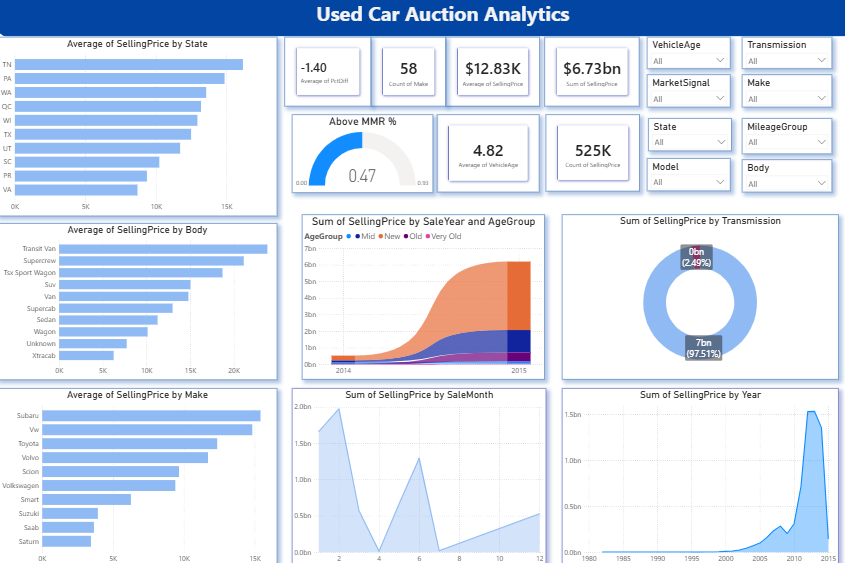

What the dashboard file says about the page in this screenshot:
{"tool":"powerbi","page":{"name":"Page 1","canvas":[2263,1520],"ordinal":0},"visuals":[{"type":"shape","box":[0,0,2345,105],"z":0},{"type":"textbox","box":[20,0,2347.5,87.5],"z":1000},{"type":"cardVisual","fields":{"Data":["Avg(cleaned_auction_data.SellingPrice)"]},"box":[1195,107.5,250,185],"z":2000},{"type":"cardVisual","fields":{"Data":["CountNonNull(cleaned_auction_data.SellingPrice)"]},"box":[1462.5,312.5,250,205],"z":3000},{"type":"areaChart","fields":{"Category":["cleaned_auction_data.SaleMonth"],"Y":["Sum(cleaned_auction_data.SellingPrice)"]},"box":[785,1042.5,677.5,477.5],"z":4000},{"type":"clusteredBarChart","fields":{"Category":["cleaned_auction_data.Body"],"Y":["Avg(cleaned_auction_data.SellingPrice)"]},"box":[0,602.5,747.5,417.5],"z":5000},{"type":"clusteredBarChart","fields":{"Category":["cleaned_auction_data.State"],"Y":["Avg(cleaned_auction_data.SellingPrice)"]},"box":[0,107.5,747.5,477.5],"z":6000},{"type":"cardVisual","fields":{"Data":["Avg(cleaned_auction_data.VehicleAge)"]},"box":[1172.5,312.5,272.5,207.5],"z":7000},{"type":"clusteredBarChart","fields":{"Y":["Avg(cleaned_auction_data.SellingPrice)"],"Category":["cleaned_auction_data.Make"]},"box":[0,1042.5,747.5,477.5],"z":8000},{"type":"slicer","fields":{"Values":["cleaned_auction_data.Make"]},"box":[1985,205,240,87.5],"z":9000},{"type":"slicer","fields":{"Values":["cleaned_auction_data.Model"]},"box":[1732.5,430,222.5,87.5],"z":10000},{"type":"slicer","fields":{"Values":["cleaned_auction_data.Body"]},"box":[1985,432.5,240,87.5],"z":11000},{"type":"slicer","fields":{"Values":["cleaned_auction_data.Transmission"]},"box":[1985,105,240,85],"z":12000},{"type":"slicer","fields":{"Values":["cleaned_auction_data.State"]},"box":[1735,322.5,222.5,87.5],"z":13000},{"type":"slicer","fields":{"Values":["cleaned_auction_data.VehicleAge"]},"box":[1732.5,105,222.5,85],"z":14000},{"type":"slicer","fields":{"Values":["cleaned_auction_data.MarketSignal"]},"box":[1732.5,205,222.5,87.5],"z":15000},{"type":"slicer","fields":{"Values":["cleaned_auction_data.MileageGroup"]},"box":[1985,322.5,240,95],"z":16000},{"type":"donutChart","fields":{"Category":["cleaned_auction_data.Transmission"],"Y":["Sum(cleaned_auction_data.SellingPrice)"]},"box":[1505,580,737.5,440],"z":17000},{"type":"areaChart","fields":{"Category":["cleaned_auction_data.Year"],"Y":["Sum(cleaned_auction_data.SellingPrice)"]},"box":[1505,1042.5,737.5,477.5],"z":18000},{"type":"cardVisual","fields":{"Data":["Sum(cleaned_auction_data.SellingPrice)"]},"box":[1460,107.5,252.5,185],"z":19000},{"type":"cardVisual","fields":{"Data":["Count(cleaned_auction_data.Make)"]},"box":[995,107.5,200,185],"z":20000},{"type":"ribbonChart","fields":{"Category":["cleaned_auction_data.SaleYear"],"Y":["Sum(cleaned_auction_data.SellingPrice)"],"Series":["cleaned_auction_data.AgeGroup"]},"box":[812.9,580,647.1,440],"z":21000},{"type":"gauge","fields":{"Y":["cleaned_auction_data.Above MMR %"]},"box":[785.7,312.9,375.7,208.6],"z":22000},{"type":"cardVisual","fields":{"Data":["Avg(cleaned_auction_data.PctDiff)"]},"box":[765,107.5,230,185],"z":23000}]}

Visuals, with their boxes in screenshot pixels (x1, y1, x2, y2), scaled from the page's 2263x1520 canvas onto the 845x563 screenshot:
shape: {"left": 0, "top": 0, "right": 844, "bottom": 39}
textbox: {"left": 7, "top": 0, "right": 844, "bottom": 32}
cardVisual - Avg(cleaned_auction_data.SellingPrice): {"left": 446, "top": 40, "right": 540, "bottom": 108}
cardVisual - CountNonNull(cleaned_auction_data.SellingPrice): {"left": 546, "top": 116, "right": 639, "bottom": 192}
areaChart - cleaned_auction_data.SaleMonth x Sum(cleaned_auction_data.SellingPrice): {"left": 293, "top": 386, "right": 546, "bottom": 562}
clusteredBarChart - cleaned_auction_data.Body x Avg(cleaned_auction_data.SellingPrice): {"left": 0, "top": 223, "right": 279, "bottom": 378}
clusteredBarChart - cleaned_auction_data.State x Avg(cleaned_auction_data.SellingPrice): {"left": 0, "top": 40, "right": 279, "bottom": 217}
cardVisual - Avg(cleaned_auction_data.VehicleAge): {"left": 438, "top": 116, "right": 540, "bottom": 193}
clusteredBarChart - Avg(cleaned_auction_data.SellingPrice) x cleaned_auction_data.Make: {"left": 0, "top": 386, "right": 279, "bottom": 562}
slicer - cleaned_auction_data.Make: {"left": 741, "top": 76, "right": 831, "bottom": 108}
slicer - cleaned_auction_data.Model: {"left": 647, "top": 159, "right": 730, "bottom": 192}
slicer - cleaned_auction_data.Body: {"left": 741, "top": 160, "right": 831, "bottom": 193}
slicer - cleaned_auction_data.Transmission: {"left": 741, "top": 39, "right": 831, "bottom": 70}
slicer - cleaned_auction_data.State: {"left": 648, "top": 119, "right": 731, "bottom": 152}
slicer - cleaned_auction_data.VehicleAge: {"left": 647, "top": 39, "right": 730, "bottom": 70}
slicer - cleaned_auction_data.MarketSignal: {"left": 647, "top": 76, "right": 730, "bottom": 108}
slicer - cleaned_auction_data.MileageGroup: {"left": 741, "top": 119, "right": 831, "bottom": 155}
donutChart - cleaned_auction_data.Transmission x Sum(cleaned_auction_data.SellingPrice): {"left": 562, "top": 215, "right": 837, "bottom": 378}
areaChart - cleaned_auction_data.Year x Sum(cleaned_auction_data.SellingPrice): {"left": 562, "top": 386, "right": 837, "bottom": 562}
cardVisual - Sum(cleaned_auction_data.SellingPrice): {"left": 545, "top": 40, "right": 639, "bottom": 108}
cardVisual - Count(cleaned_auction_data.Make): {"left": 372, "top": 40, "right": 446, "bottom": 108}
ribbonChart - cleaned_auction_data.SaleYear x Sum(cleaned_auction_data.SellingPrice): {"left": 304, "top": 215, "right": 545, "bottom": 378}
gauge - cleaned_auction_data.Above MMR %: {"left": 293, "top": 116, "right": 434, "bottom": 193}
cardVisual - Avg(cleaned_auction_data.PctDiff): {"left": 286, "top": 40, "right": 372, "bottom": 108}
